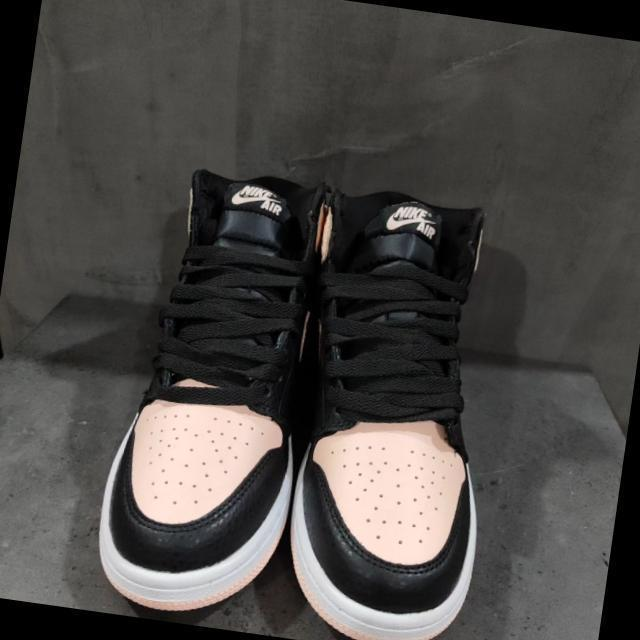nike fake jordan 1: (93, 154, 339, 634), (265, 179, 520, 640)
